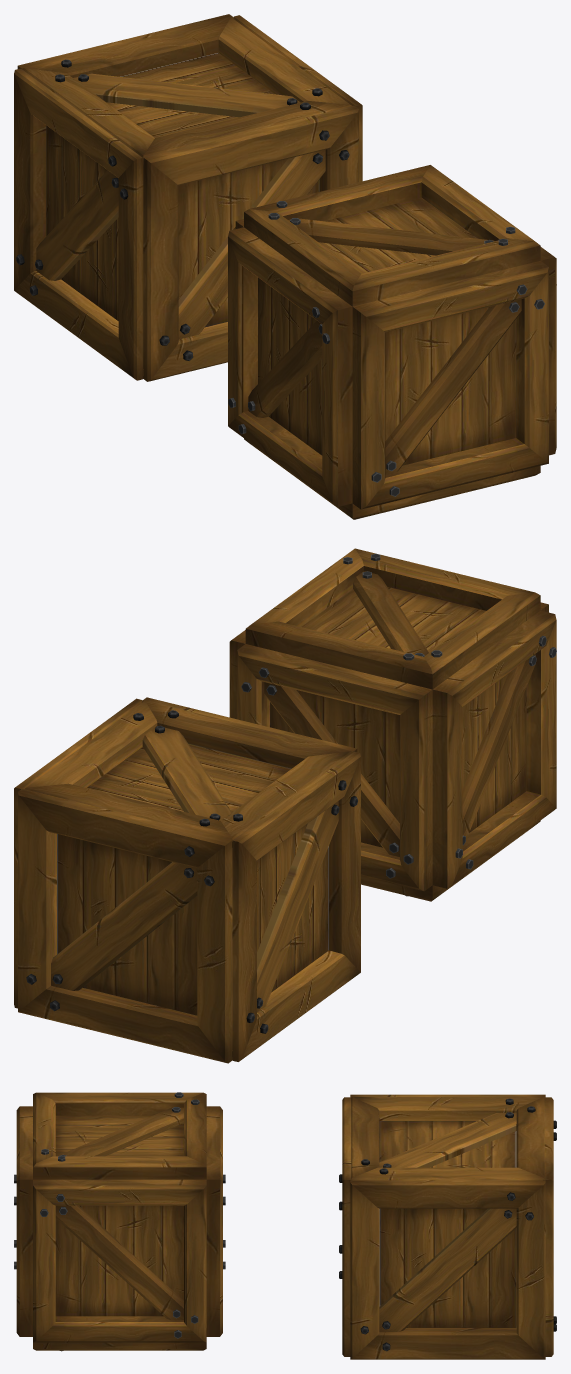
Rendered from caixotes_vila.glb.
3 views of the same model, one above another, from view 1: azimuth 30°, elevation 25°; view 2: azimuth 150°, elevation 25°; view 3: azimuth 270°, elevation 25° (orthographic). The views are drawn at different scales.
Parts seen in each view (by area): view 1: Crate02, Crate01; view 2: Crate01, Crate02; view 3: Crate01, Crate02.
Boxes of the visible parts, x1,y1,x2,y2 form: Crate02: (228,165,556,519); Crate01: (14,14,362,381); Crate01: (14,697,360,1063); Crate02: (229,548,556,901); Crate01: (339,1094,556,1359); Crate02: (14,1092,225,1351).
Size of the model in its own units: 0.8235 by 0.7993 by 2.05.
2 materials, 2 textured.
